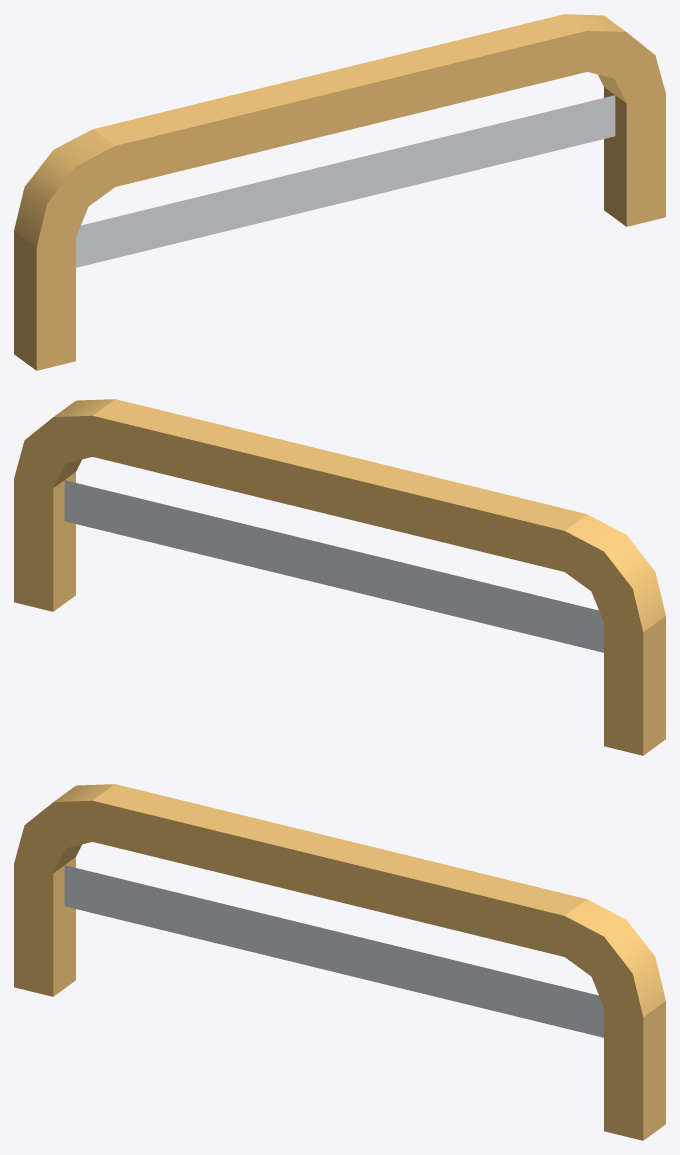
File: rail.gltf
3 views of the same model, one above another, from view 1: azimuth 30°, elevation 25°; view 2: azimuth 150°, elevation 25°; view 3: azimuth 330°, elevation 25° (orthographic).
Visible parts, largest first — view 1: rail; view 2: rail; view 3: rail.
Part boxes in pixels (x1,y1,x2,y2): rail: (14,14,665,370); rail: (14,399,665,755); rail: (14,784,665,1140).
Bounding box in the file's own units: 0.8 × 0.25 × 0.05.
